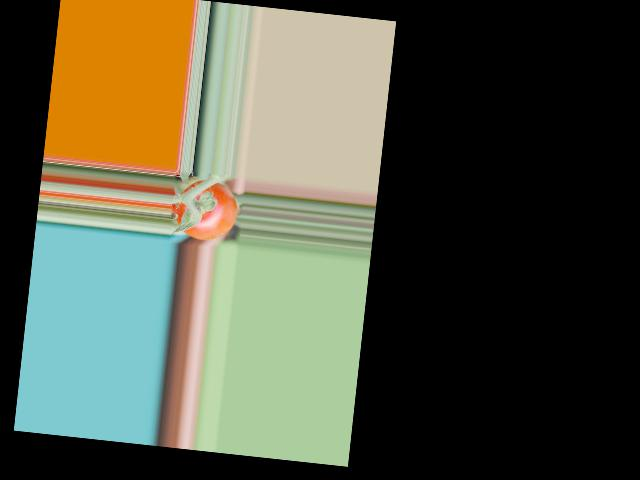tomato: (169, 176, 239, 243)
